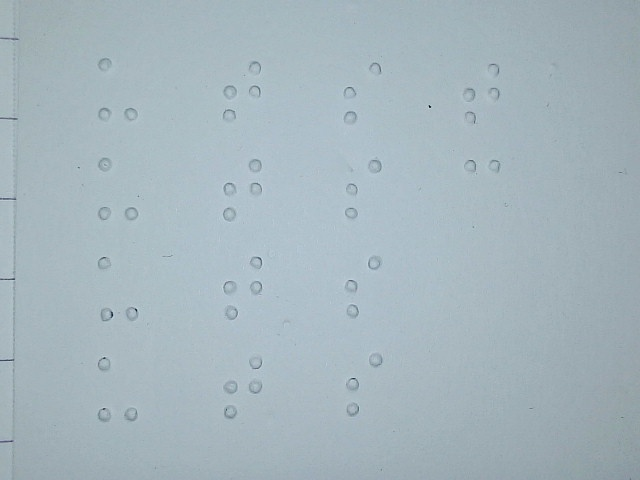S: (342, 59, 383, 126), (343, 156, 384, 221), (344, 252, 383, 320), (345, 350, 383, 416)
T: (221, 57, 263, 123), (221, 157, 263, 223), (222, 254, 264, 320), (222, 354, 264, 420)
U: (96, 56, 140, 122), (97, 155, 141, 221), (96, 255, 140, 321), (96, 355, 140, 421)
